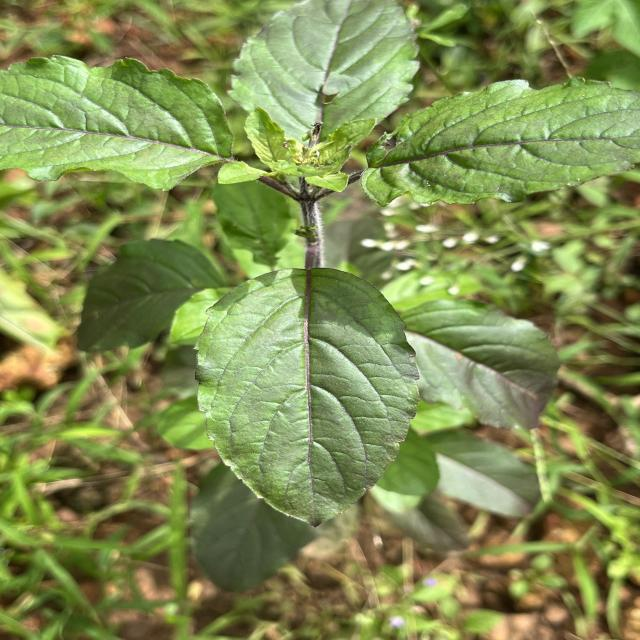Ocimum tenuiflorum: (192, 266, 424, 529)
